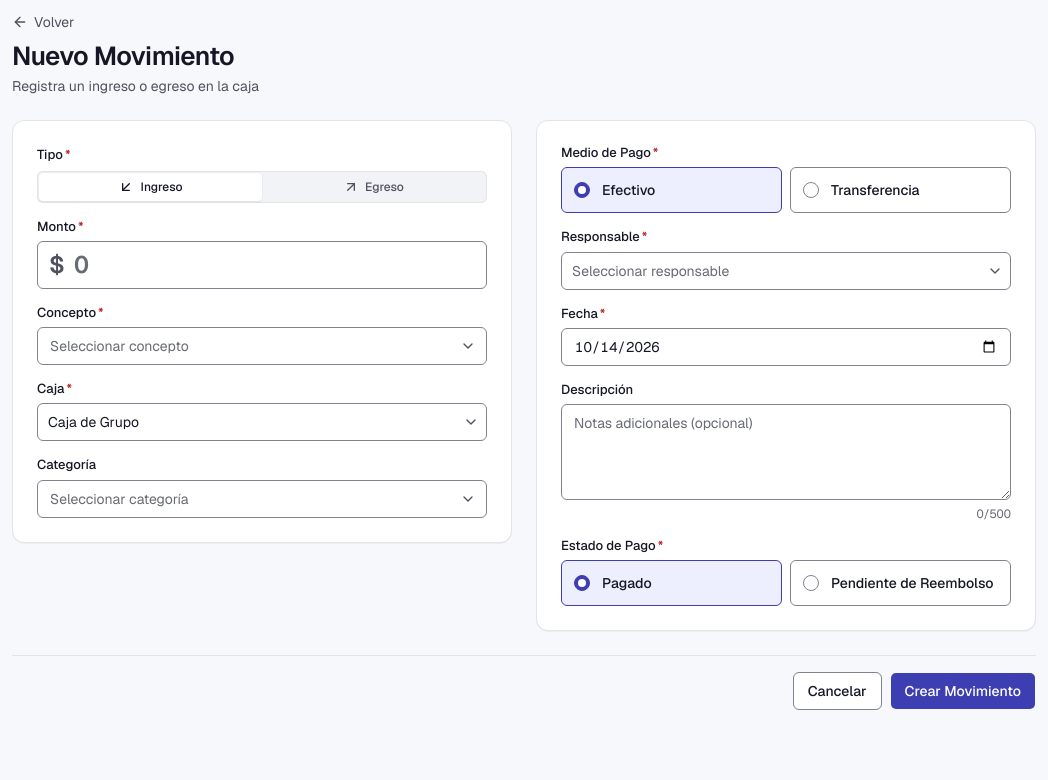
MovimientoCreateView › precarga ?cajaId y valida requeridos al enviar
Expected: the heading "Nuevo Movimiento" is shown, [12,40,259,72]
Expected: the dropdown showing "Caja de Grupo" is shown, [38,406,459,438]
Click the button "Crear Movimiento" at (963, 691), box [890,672,1036,710]
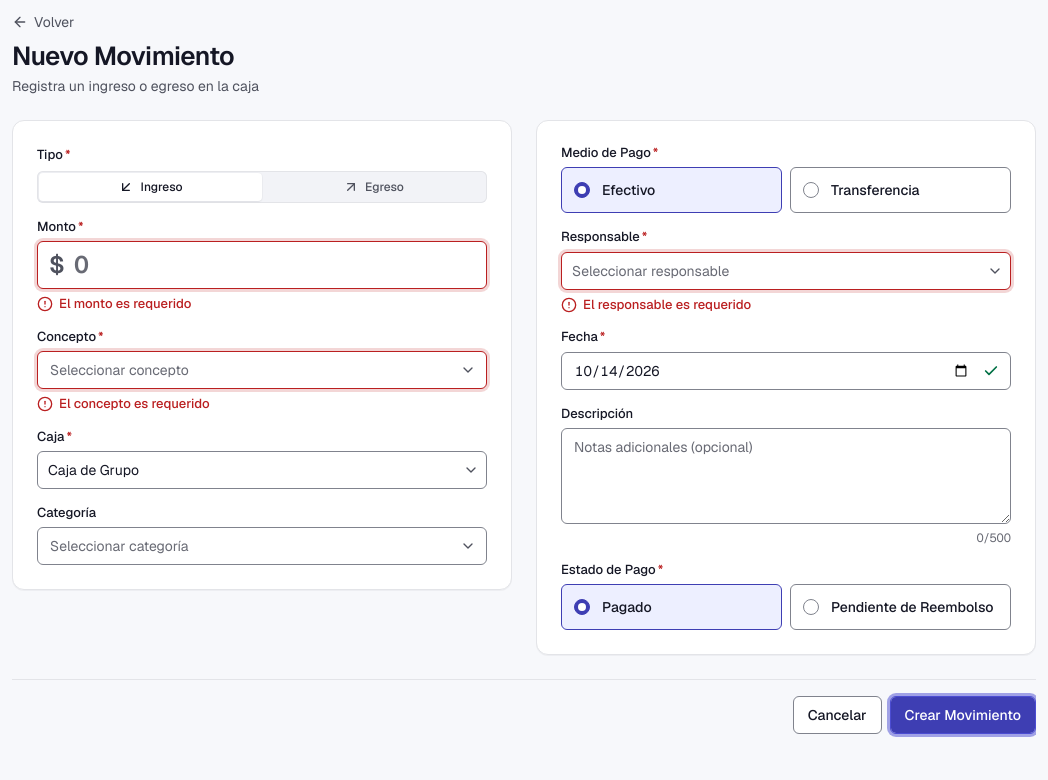
Now the text "El monto es requerido" is shown, box [59,295,191,313]
Now the text "El concepto es requerido" is shown, box [59,395,210,413]
Now the text "El responsable es requerido" is shown, box [583,296,751,313]
